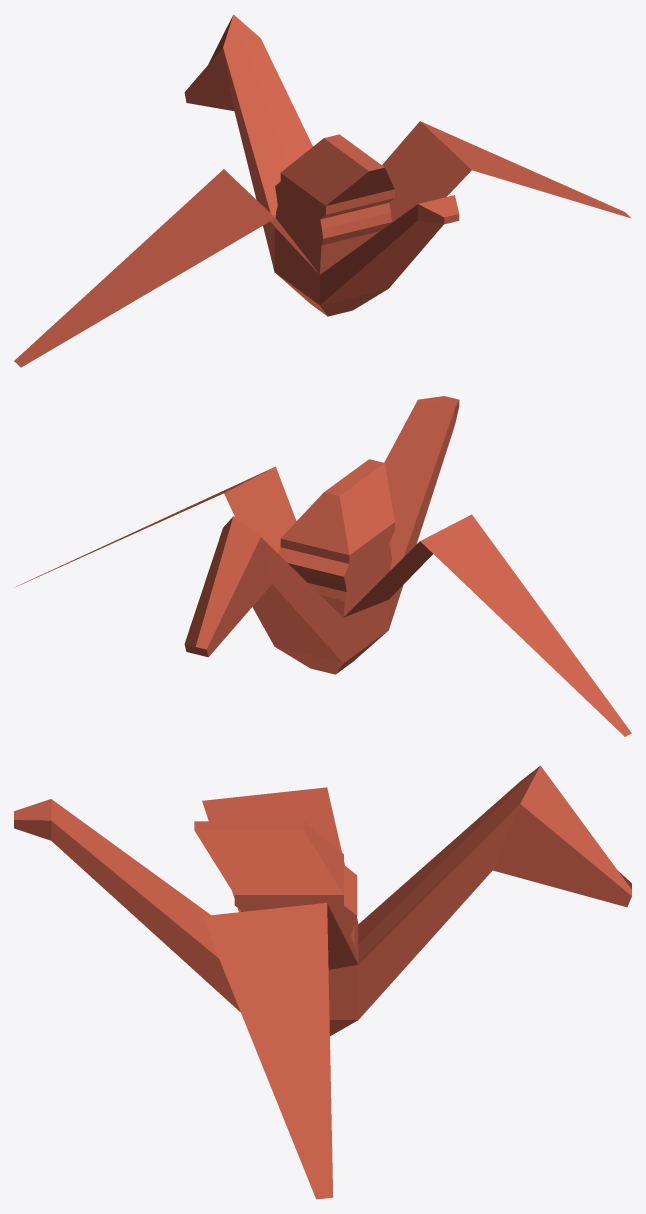
File: battlebird.fbx
3 renders of one model, top to bottom at view 1: azimuth 30°, elevation 25°; view 2: azimuth 150°, elevation 25°; view 3: azimuth 270°, elevation 25°, orthographic. The views are drawn at different scales.
Parts seen in each view (by area): view 1: Cube; view 2: Cube; view 3: Cube.
Boxes of the visible parts, left/top/right/bottom form: Cube: left=14, top=14, right=631, bottom=367; Cube: left=16, top=396, right=631, bottom=736; Cube: left=14, top=765, right=631, bottom=1199.
Size of the model in its own units: 220 by 76.16 by 160.
